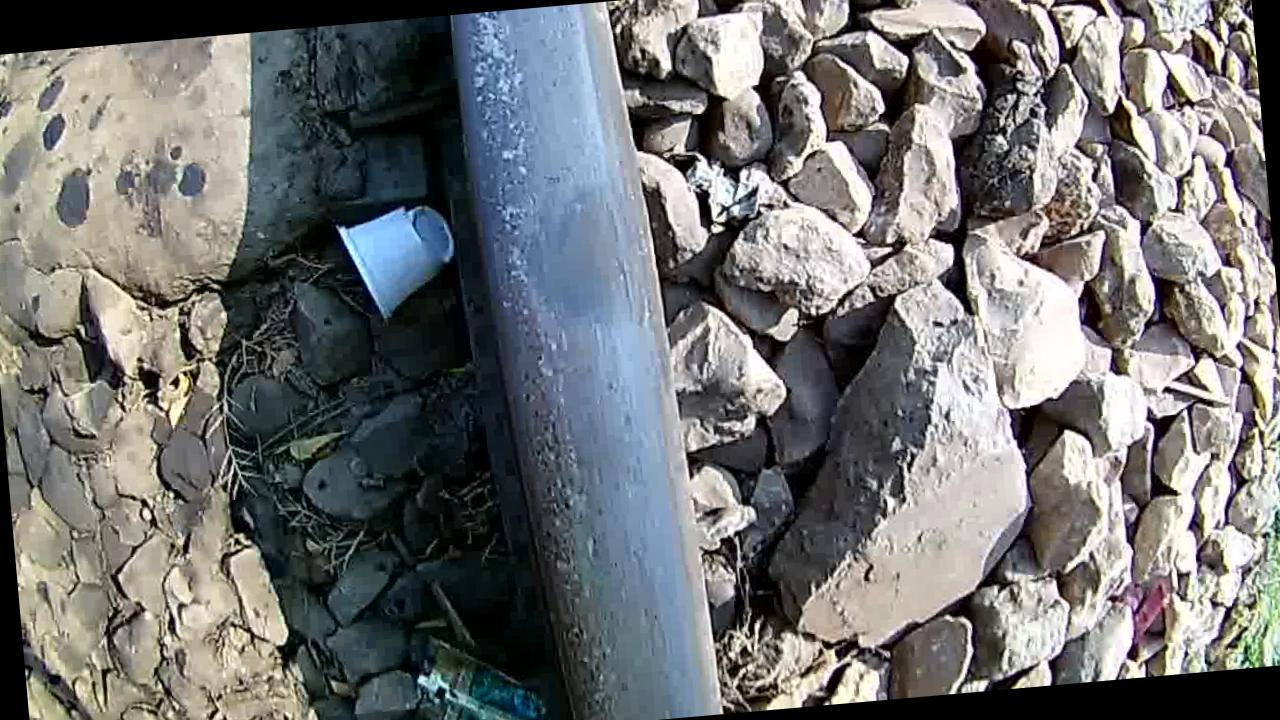bolt_missing: (487, 150, 668, 378)
